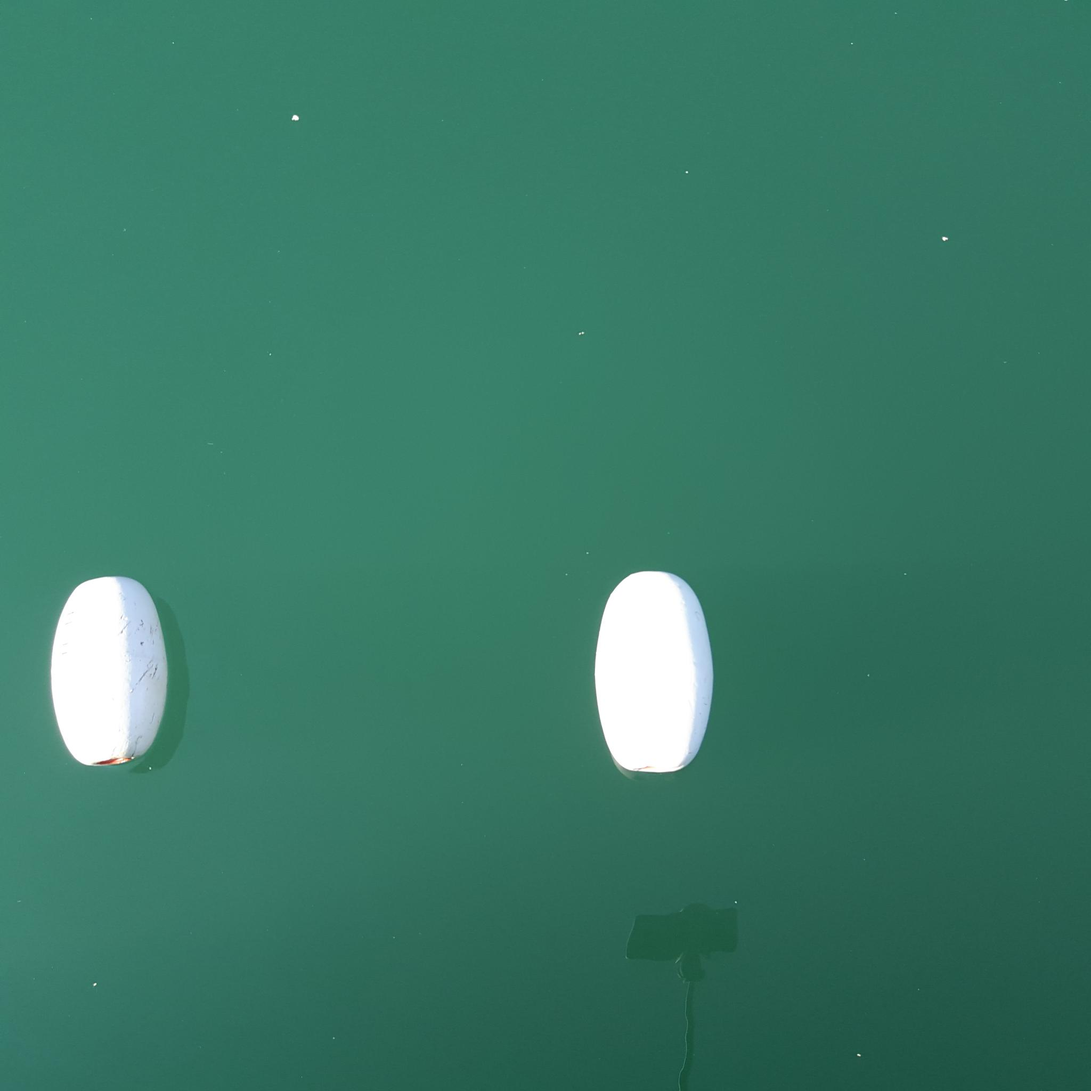sampah_terapung: (595, 571, 714, 773), (51, 576, 168, 767)
